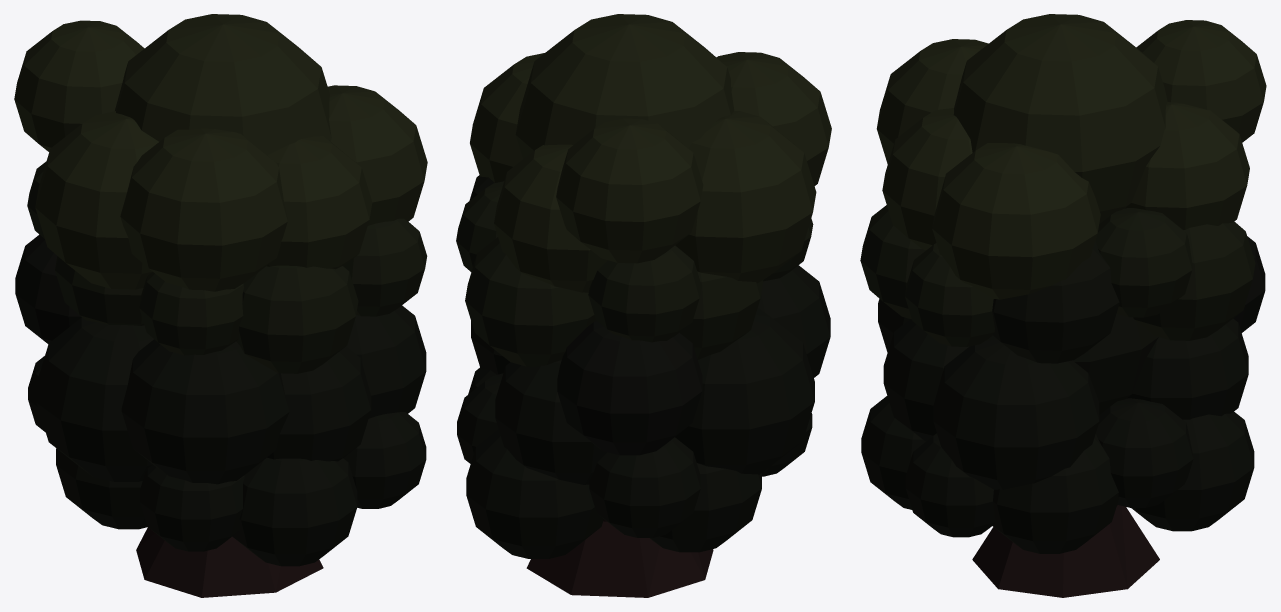
Rendered from bush_tall.gltf.
The picture shows the model from 3 angles, left to right: view 1: azimuth 30°, elevation 25°; view 2: azimuth 150°, elevation 25°; view 3: azimuth 270°, elevation 25°; orthographic projection.
Parts seen in each view (by area): view 1: TallBush; view 2: TallBush; view 3: TallBush.
Part boxes in pixels (box(x1,y1,x2,y2)): TallBush: box(14, 14, 427, 597); TallBush: box(456, 14, 831, 597); TallBush: box(860, 14, 1266, 597).
Bounding box in the file's own units: 1.28 × 1.9 × 1.32.
Materials: 1 (1 with a texture image).
